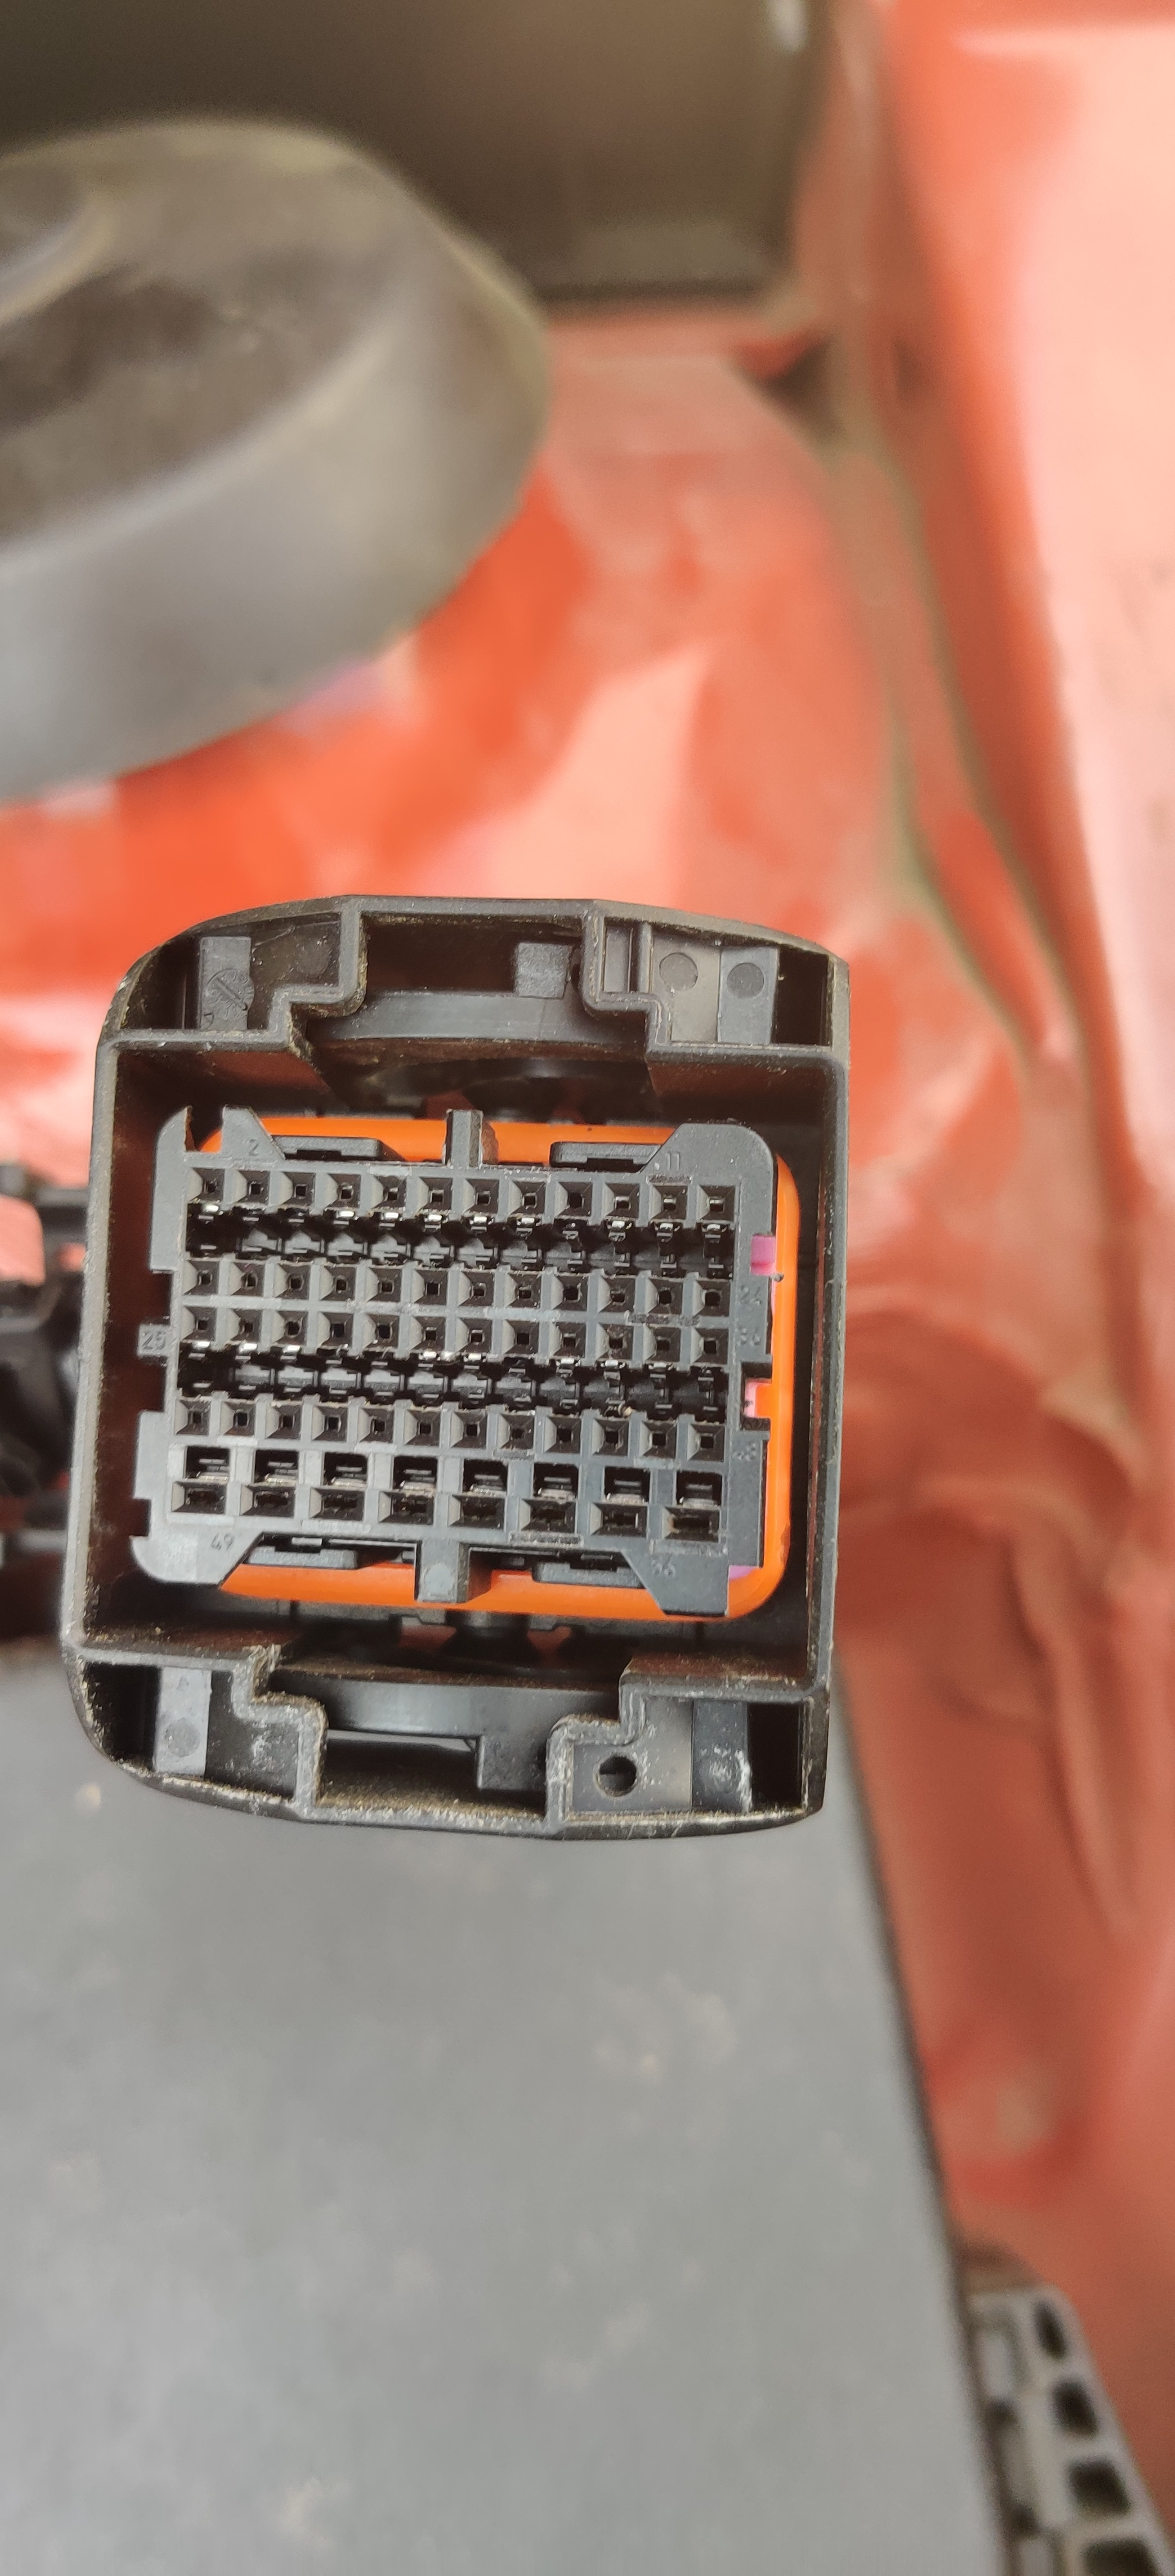connector: (51, 862, 947, 1916)
